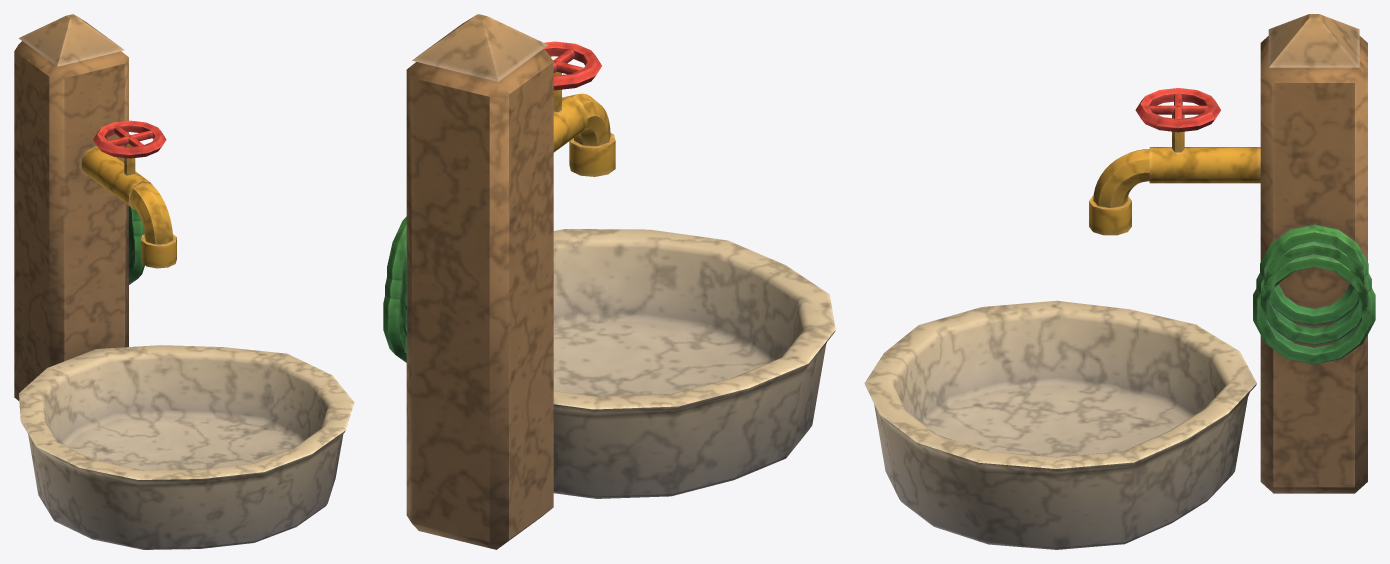
The model's file is Source_Tap.glb.
The picture shows the model from 3 angles, left to right: view 1: azimuth 30°, elevation 25°; view 2: azimuth 150°, elevation 25°; view 3: azimuth 270°, elevation 25°; orthographic projection. The views are drawn at different scales.
Parts seen in each view (by area): view 1: Source_Tap; view 2: Source_Tap; view 3: Source_Tap.
Boxes of the visible parts, left/top/right/bottom form: Source_Tap: left=14, top=14, right=354, bottom=549; Source_Tap: left=383, top=14, right=835, bottom=549; Source_Tap: left=864, top=14, right=1375, bottom=549.
Size of the model in its own units: 5.57 by 7.1 by 7.15.
1 material, 1 textured.
